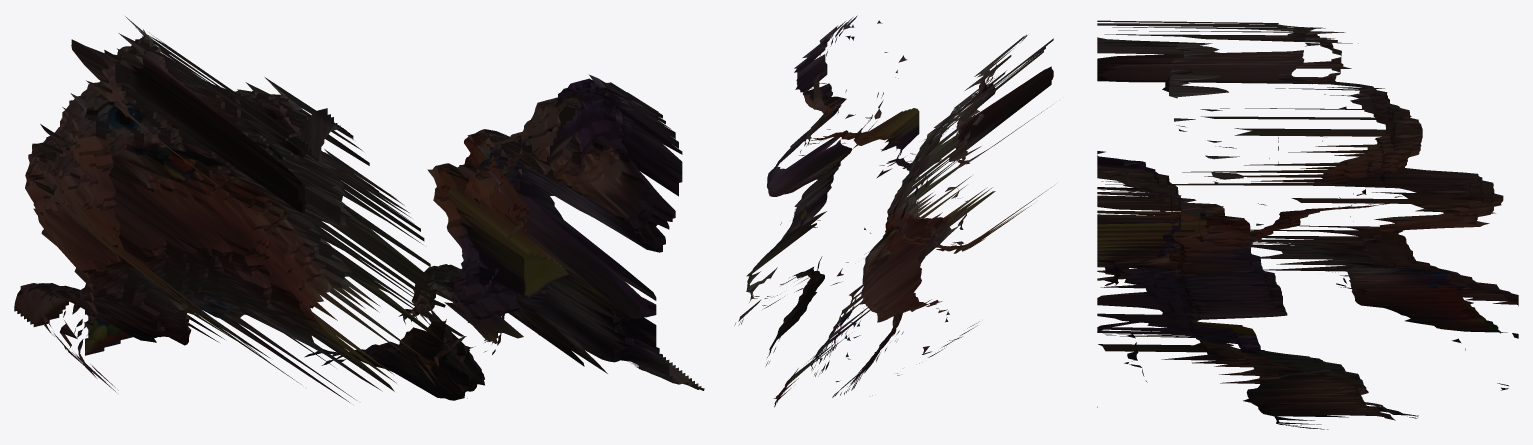
The model's file is frame_00355.glb.
3 renders of one model, left to right at view 1: azimuth 30°, elevation 25°; view 2: azimuth 150°, elevation 25°; view 3: azimuth 270°, elevation 25°, orthographic. The views are drawn at different scales.
Parts seen in each view (by area): view 1: geometry_0; view 2: geometry_0; view 3: geometry_0.
Boxes of the visible parts, box(x1,y1,x2,y2) form: geometry_0: box(14, 16, 704, 402); geometry_0: box(734, 15, 1054, 407); geometry_0: box(1097, 20, 1518, 429).
Bounding box in the file's own units: 0.1407 × 0.1415 × 0.16.
Materials: 1 (1 with a texture image).
